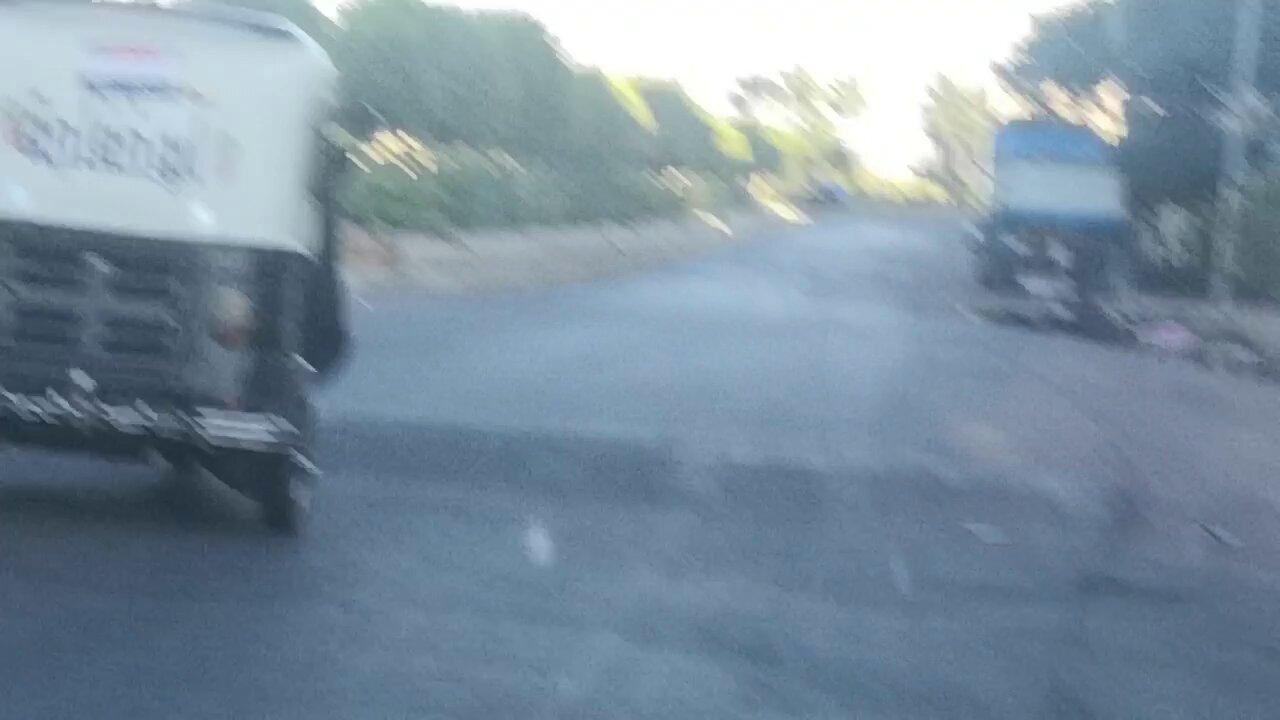Bump: (347, 408, 1278, 587)
